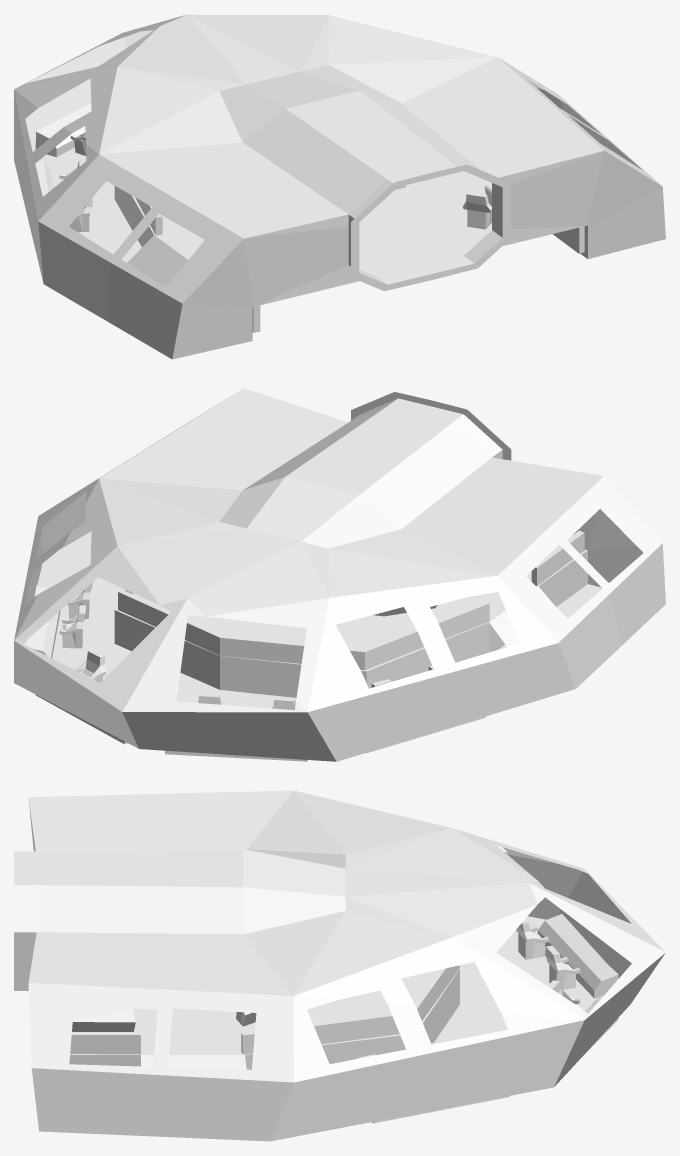
Rendered from bridge.obj.
3 views of the same model, one above another, from view 1: azimuth 30°, elevation 25°; view 2: azimuth 150°, elevation 25°; view 3: azimuth 270°, elevation 25° (orthographic). The views are drawn at different scales.
Visible parts, largest first — view 1: Cube.002; view 2: Cube.002; view 3: Cube.002.
Part boxes in pixels (x1=…): Cube.002: x1=14, y1=14, x2=665, y2=359; Cube.002: x1=14, y1=388, x2=665, y2=761; Cube.002: x1=14, y1=790, x2=665, y2=1141.
Size of the model in its own units: 7.43 by 1.86 by 7.46.
